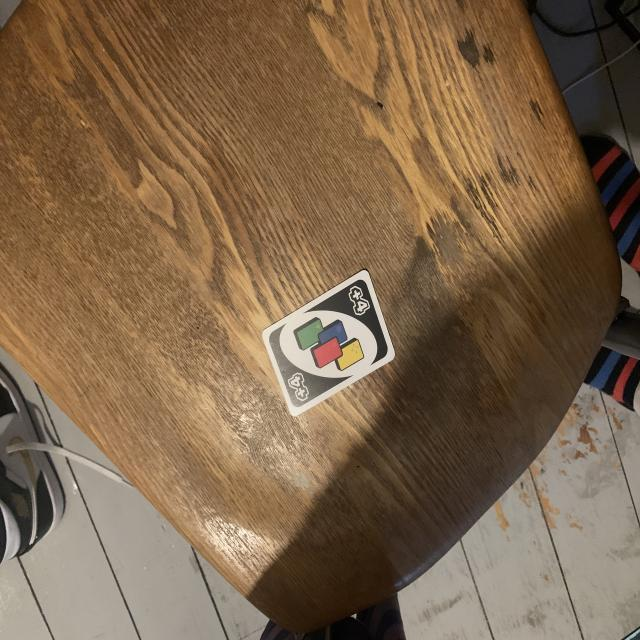lcolor-400: (347, 281, 373, 320)
